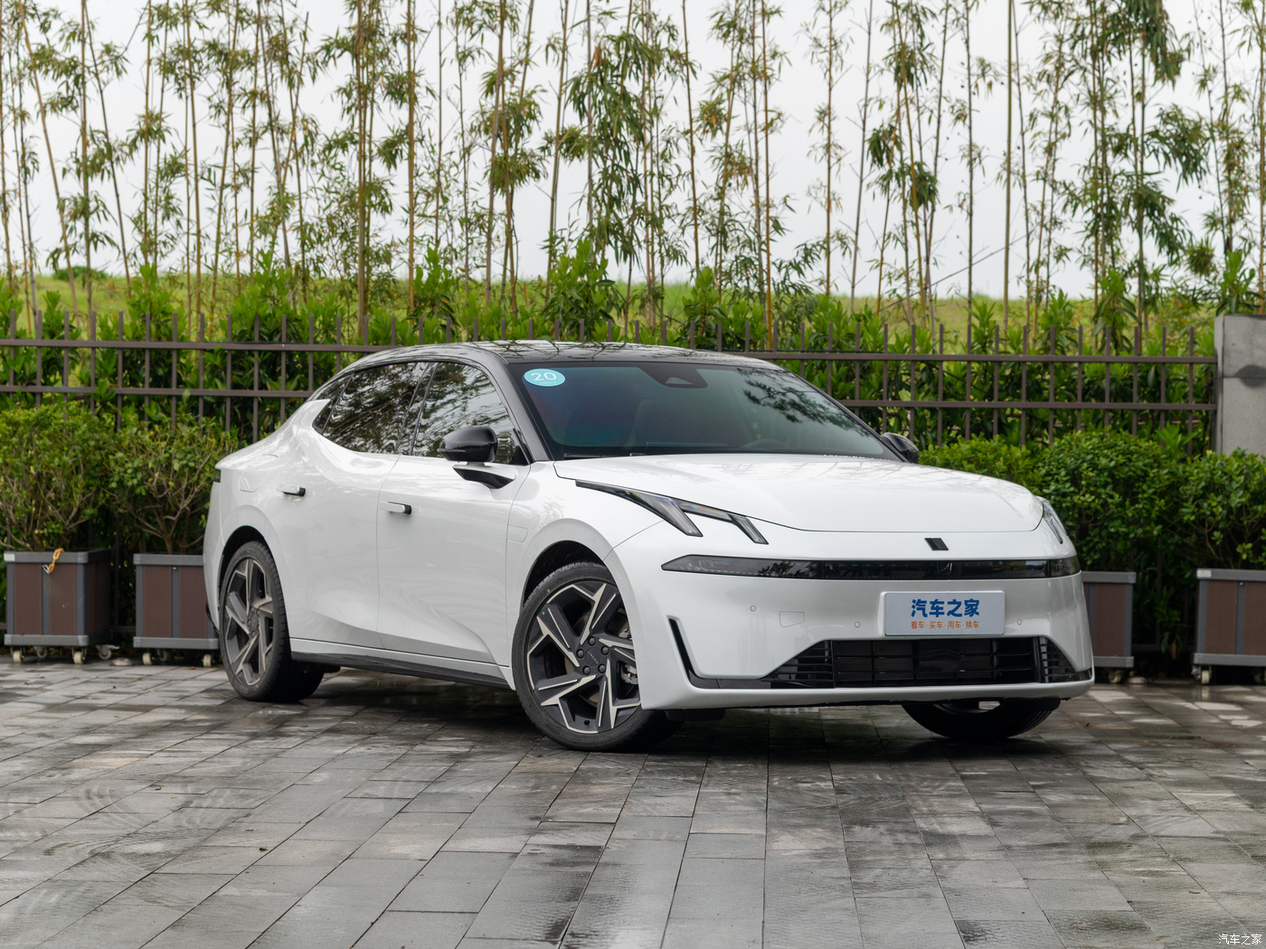LINK&CO: (924, 538, 949, 550)
